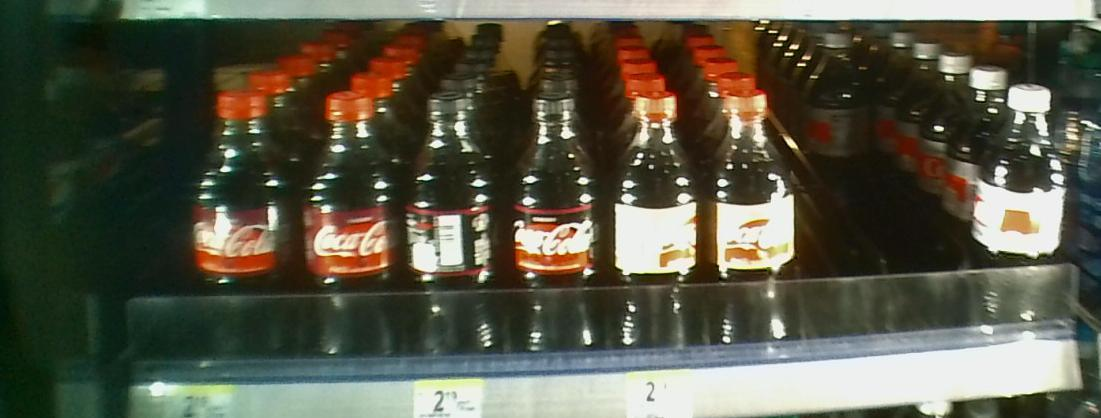bottle: (180, 69, 297, 361), (605, 83, 706, 369), (305, 89, 408, 368), (409, 89, 507, 363), (507, 88, 600, 369), (711, 84, 804, 352), (976, 79, 1070, 344), (808, 25, 866, 178)
